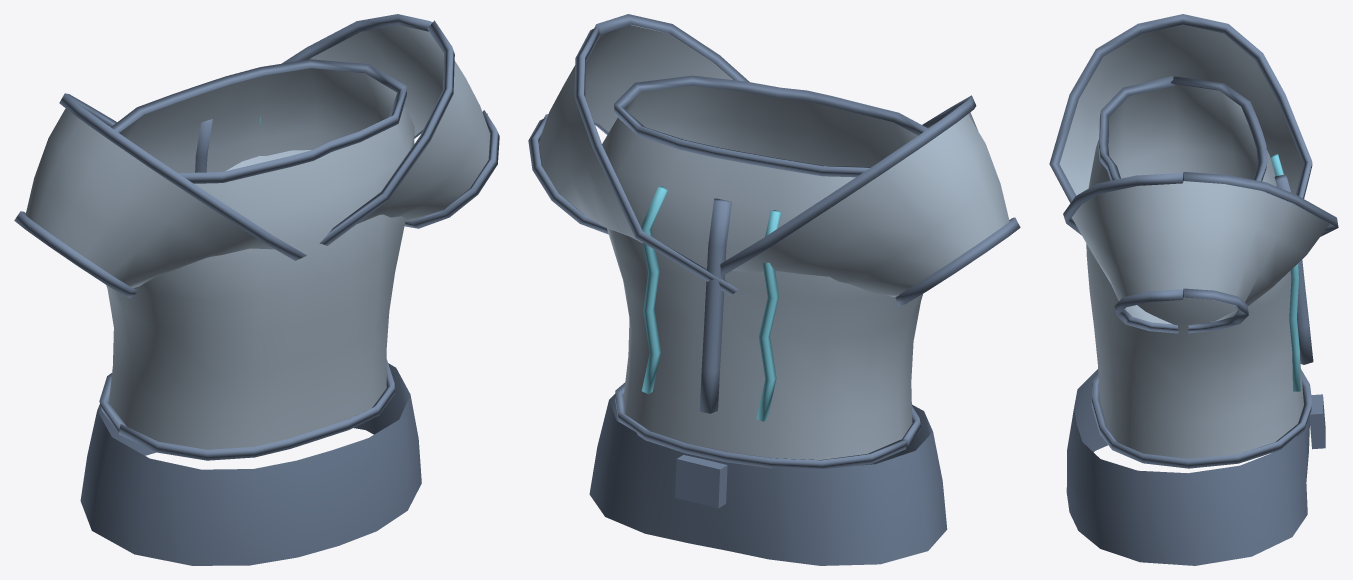
Rendered from titanium_chainmail.glb.
3 renders of one model, left to right at view 1: azimuth 30°, elevation 25°; view 2: azimuth 150°, elevation 25°; view 3: azimuth 270°, elevation 25°, orthographic. The views are drawn at different scales.
Parts seen in each view (by area): view 1: titanium_chainmail_chest; view 2: titanium_chainmail_chest; view 3: titanium_chainmail_chest.
Part boxes in pixels (x1,y1,x2,y2): titanium_chainmail_chest: [14, 14, 499, 565]; titanium_chainmail_chest: [528, 14, 1020, 565]; titanium_chainmail_chest: [1049, 14, 1338, 565].
Bounding box in the file's own units: 0.6477 × 0.592 × 0.3782.
